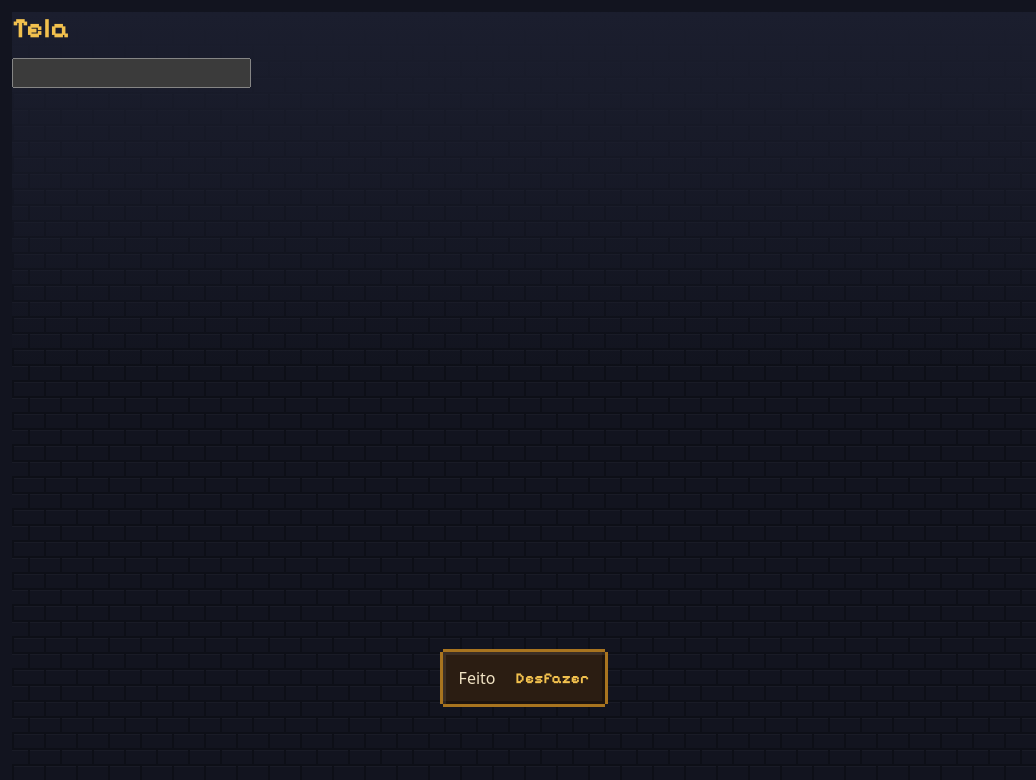
Test: Toast action focus › an action that moves focus to an element keeps it there (the heading does not take it)
This screenshot has width=1036, height=780.
Step 1. Click the button "Desfazer" → (552, 678), box [504,656,601,700]
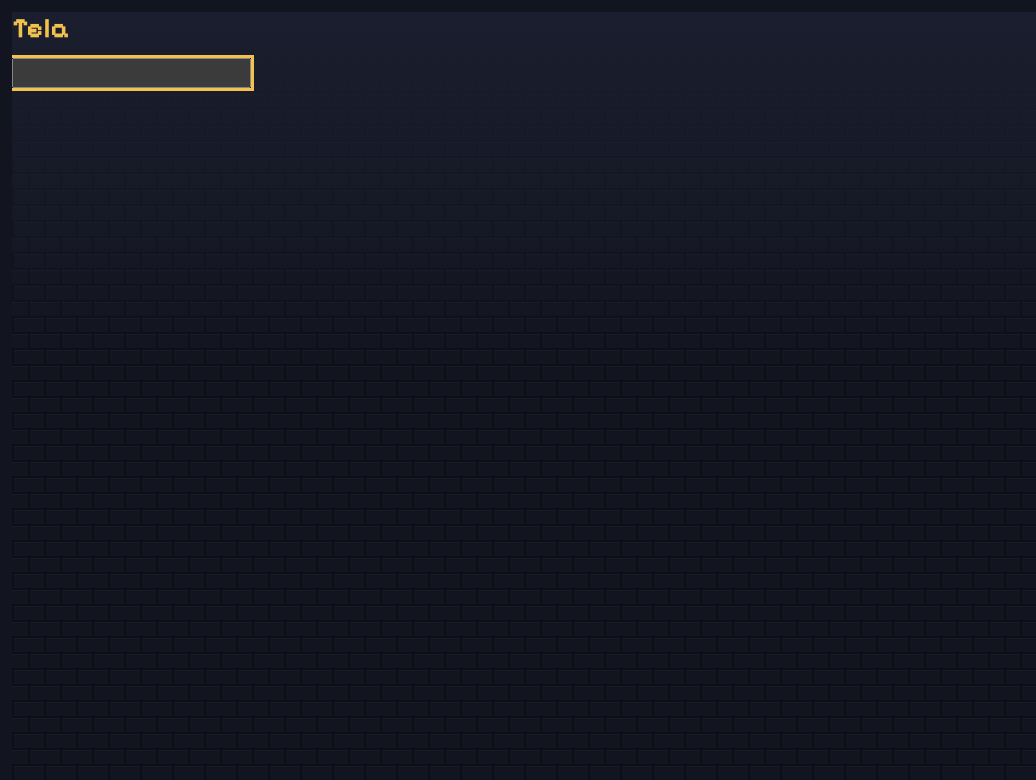
Result: the button "Desfazer" is gone
